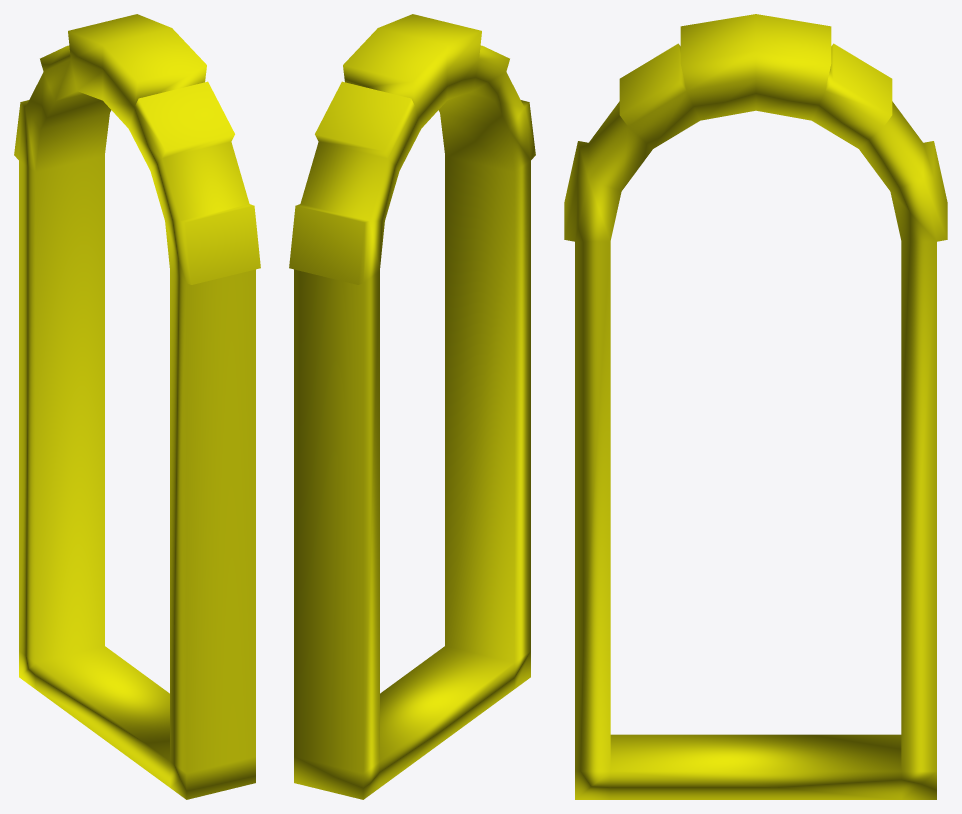
File: Door_Edge_02.fbx
3 views of the same model, side by side, from view 1: azimuth 30°, elevation 25°; view 2: azimuth 150°, elevation 25°; view 3: azimuth 270°, elevation 25° (orthographic). The views are drawn at different scales.
Visible parts, largest first — view 1: Door_Edge_02; view 2: Door_Edge_02; view 3: Door_Edge_02.
Part boxes in pixels (bbox=[...]): Door_Edge_02: bbox=[14, 14, 260, 799]; Door_Edge_02: bbox=[289, 14, 535, 799]; Door_Edge_02: bbox=[564, 14, 947, 799].
Size of the model in its own units: 31.52 by 301 by 140.
